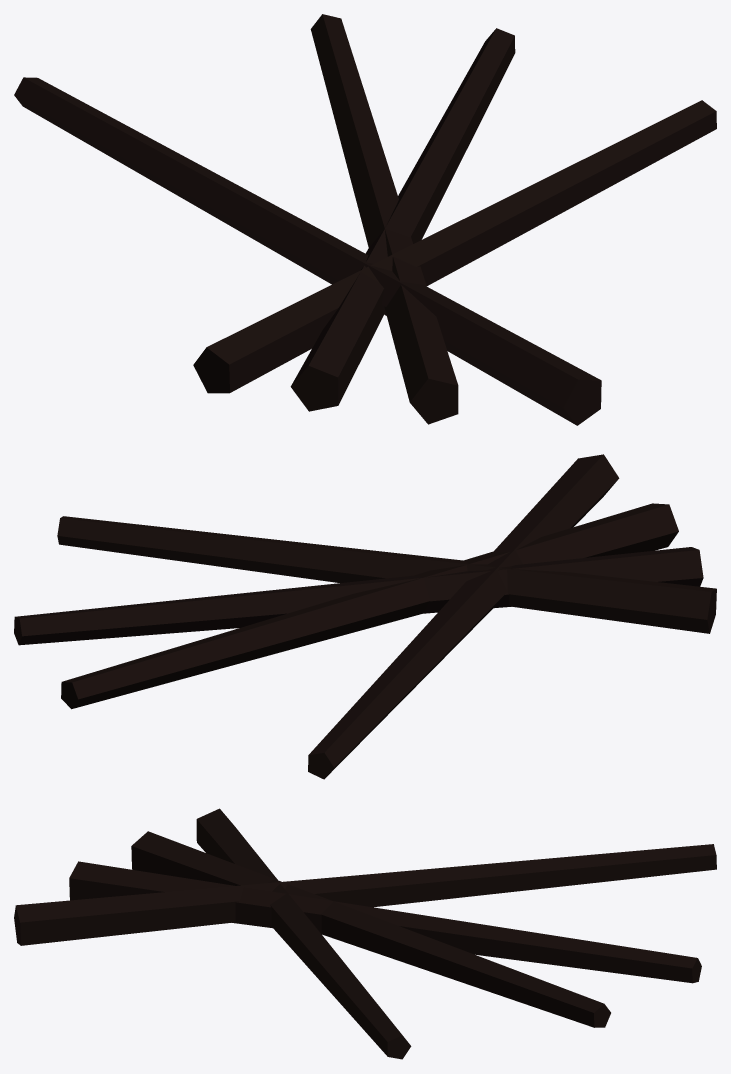
File: Wood_Pile_02.fbx
3 views of the same model, one above another, from view 1: azimuth 30°, elevation 25°; view 2: azimuth 150°, elevation 25°; view 3: azimuth 270°, elevation 25° (orthographic). The views are drawn at different scales.
Visible parts, largest first — view 1: Wood_Pile_02_Mesh; view 2: Wood_Pile_02_Mesh; view 3: Wood_Pile_02_Mesh.
Boxes of the visible parts, box(x1,y1,x2,y2) form: Wood_Pile_02_Mesh: box(14, 14, 716, 425); Wood_Pile_02_Mesh: box(14, 454, 716, 779); Wood_Pile_02_Mesh: box(14, 808, 716, 1059).
Size of the model in its own units: 0.9225 by 0.0892 by 1.12.
Materials: 1 (1 with a texture image).
